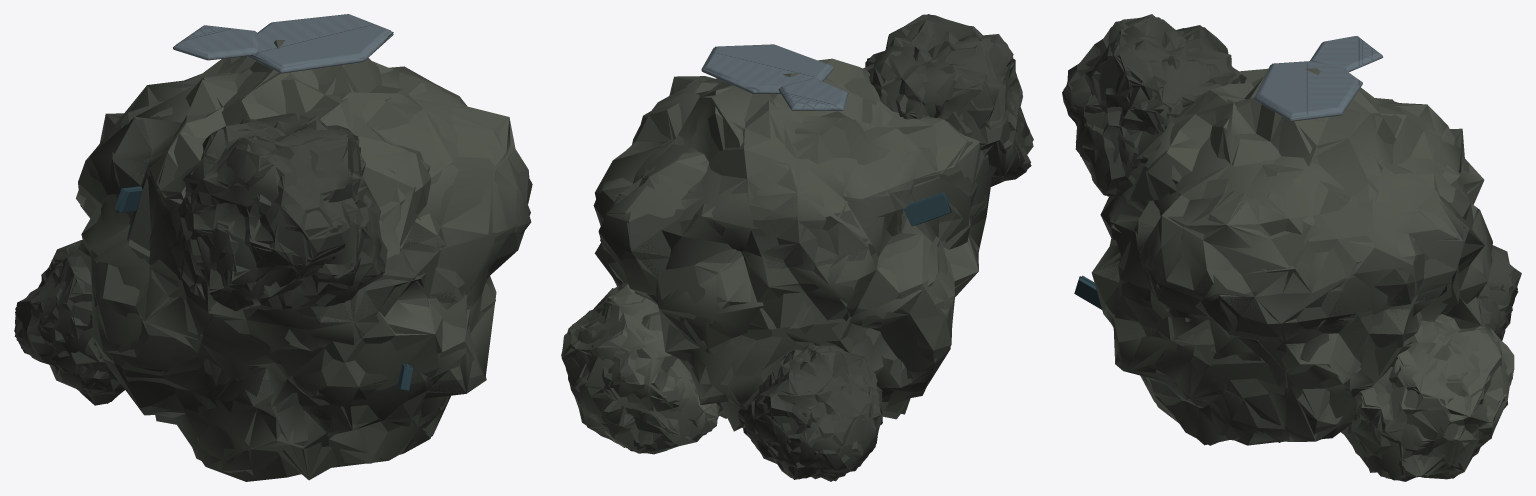
The model's file is place_asteroid_rock_b.glb.
3 views of the same model, side by side, from view 1: azimuth 30°, elevation 25°; view 2: azimuth 150°, elevation 25°; view 3: azimuth 270°, elevation 25° (orthographic). The views are drawn at different scales.
Visible parts, largest first — view 1: LOD2_Stone, LOD0_Stone, LOD1_Stone, LOD0_Stone_deep, LOD2_Stone_deep, LOD2_Stone_strata, LOD1_Stone_deep, LOD0_Stone_strata, LOD0_Ceramic_ice, LOD1_Stone_strata, LOD0_CANOPY; view 2: LOD2_Stone, LOD0_Stone, LOD1_Stone, LOD0_Stone_deep, LOD2_Stone_deep, LOD1_Stone_deep, LOD0_Stone_strata, LOD2_Stone_strata, LOD1_Stone_strata, LOD0_Ceramic_ice, LOD0_CANOPY; view 3: LOD0_Stone, LOD2_Stone, LOD1_Stone, LOD0_Stone_strata, LOD2_Stone_strata, LOD0_Stone_deep, LOD1_Stone_strata, LOD1_Stone_deep, LOD2_Stone_deep, LOD0_Ceramic_ice, LOD0_CANOPY.
Part boxes in pixels (x1,y1,x2,y2): LOD2_Stone: (76, 40, 532, 481); LOD0_Stone: (78, 57, 530, 480); LOD1_Stone: (78, 56, 530, 471); LOD0_Stone_deep: (14, 113, 387, 405); LOD2_Stone_deep: (15, 113, 383, 403); LOD2_Stone_strata: (90, 114, 530, 426); LOD1_Stone_deep: (14, 118, 384, 404); LOD0_Stone_strata: (85, 113, 524, 424); LOD0_Ceramic_ice: (173, 14, 393, 73); LOD1_Stone_strata: (86, 113, 530, 429); LOD0_CANOPY: (114, 186, 412, 390); LOD2_Stone: (561, 61, 986, 453); LOD0_Stone: (561, 58, 988, 454); LOD1_Stone: (562, 59, 987, 451); LOD0_Stone_deep: (737, 14, 1033, 480); LOD2_Stone_deep: (738, 14, 1029, 481); LOD1_Stone_deep: (738, 14, 1033, 481); LOD0_Stone_strata: (593, 157, 988, 428); LOD2_Stone_strata: (595, 144, 991, 431); LOD1_Stone_strata: (594, 156, 991, 428); LOD0_Ceramic_ice: (701, 44, 847, 110); LOD0_CANOPY: (903, 193, 950, 226); LOD0_Stone: (1092, 69, 1514, 481); LOD2_Stone: (1092, 68, 1510, 480); LOD1_Stone: (1092, 87, 1514, 480); LOD0_Stone_strata: (1101, 128, 1484, 438); LOD2_Stone_strata: (1101, 129, 1484, 441); LOD0_Stone_deep: (1062, 16, 1521, 340); LOD1_Stone_strata: (1109, 128, 1483, 441); LOD1_Stone_deep: (1063, 17, 1521, 337); LOD2_Stone_deep: (1064, 14, 1516, 336); LOD0_Ceramic_ice: (1254, 36, 1382, 121); LOD0_CANOPY: (1074, 275, 1101, 309).
Size of what is drawn, in the model's own units: 7.74 by 7.82 by 8.89.
5 materials, 1 textured.
